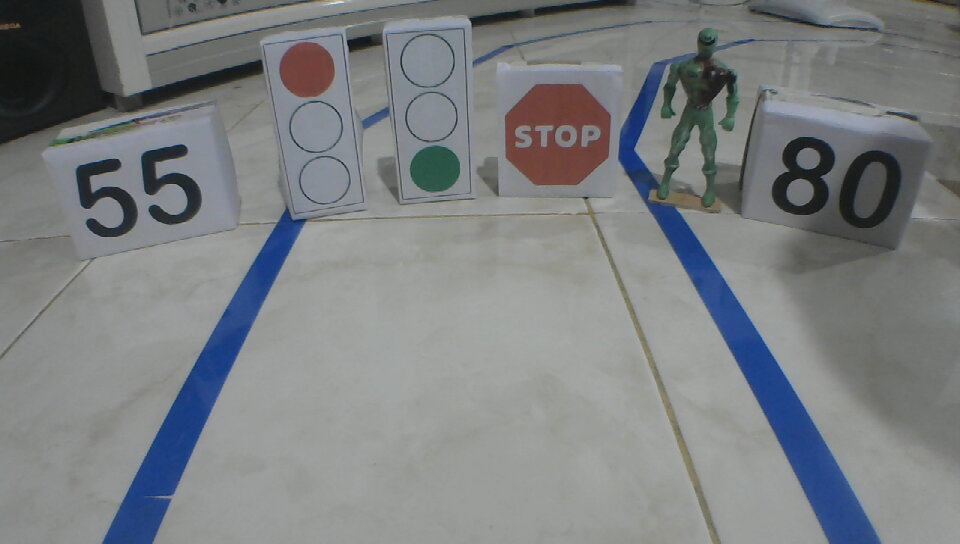Green Light: (397, 28, 465, 197)
Person: (651, 27, 743, 209)
Red Light: (278, 38, 352, 207)
Speed 55: (71, 141, 206, 240)
Speed 80: (765, 134, 908, 234)
Stop: (500, 82, 612, 188)
